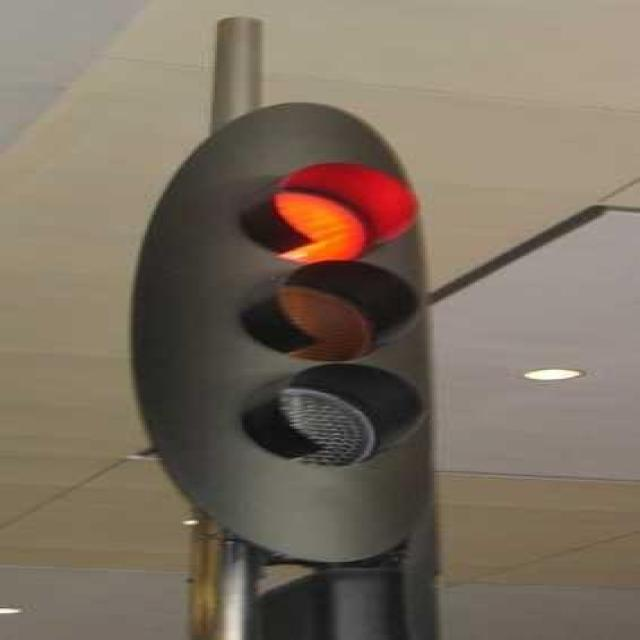Traffic Light -Red-: (222, 82, 441, 571)
